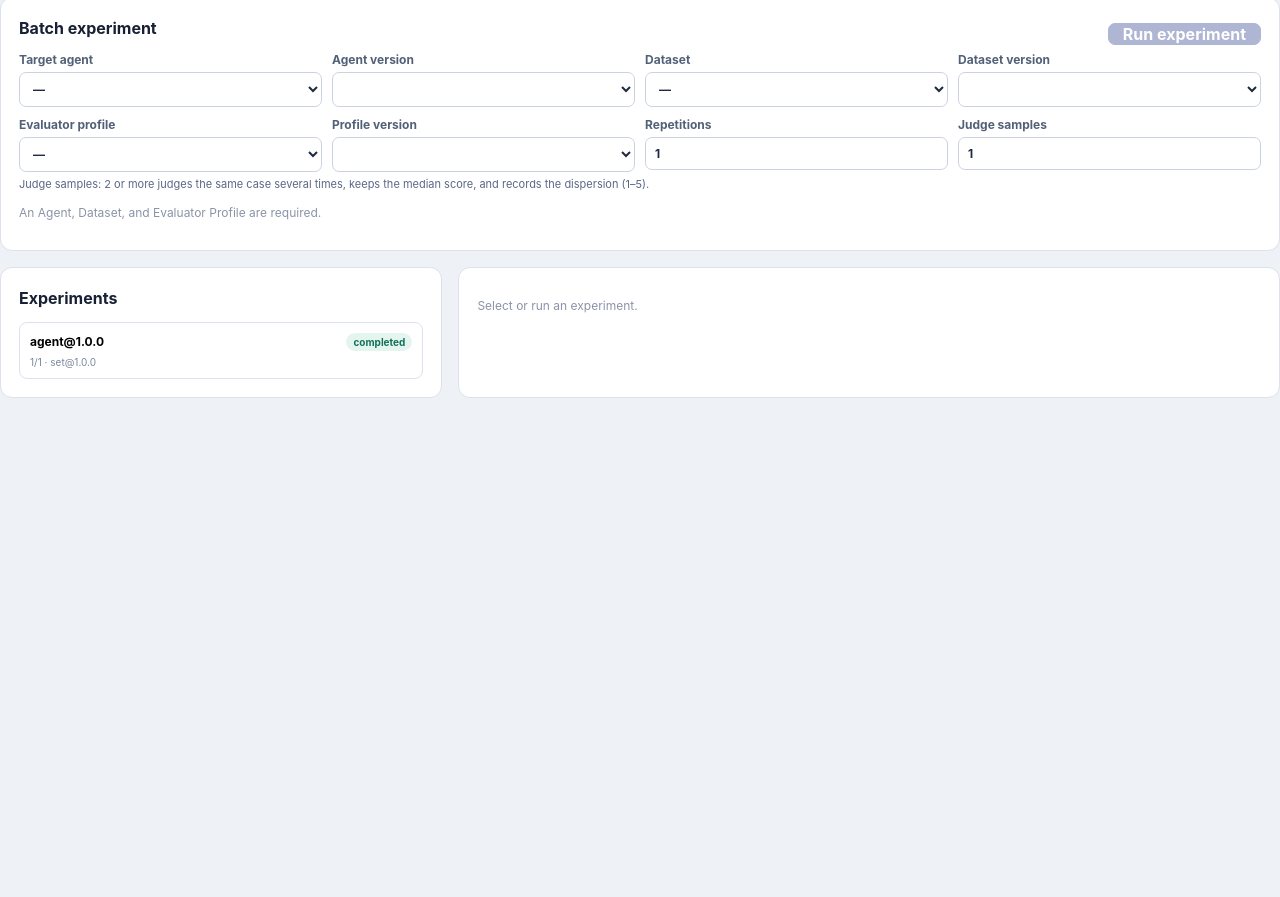
Scenario: ExperimentsTab のトレース表示 › error / mcp-server-skipped の行は言語化し、それ以外は種別名だけ（従来どおり）
Click the button "agent@1.0.0 completed 1/1 · set@1.0.0". click: (47, 342)
box: top-left (19, 322), bottom-right (423, 378)
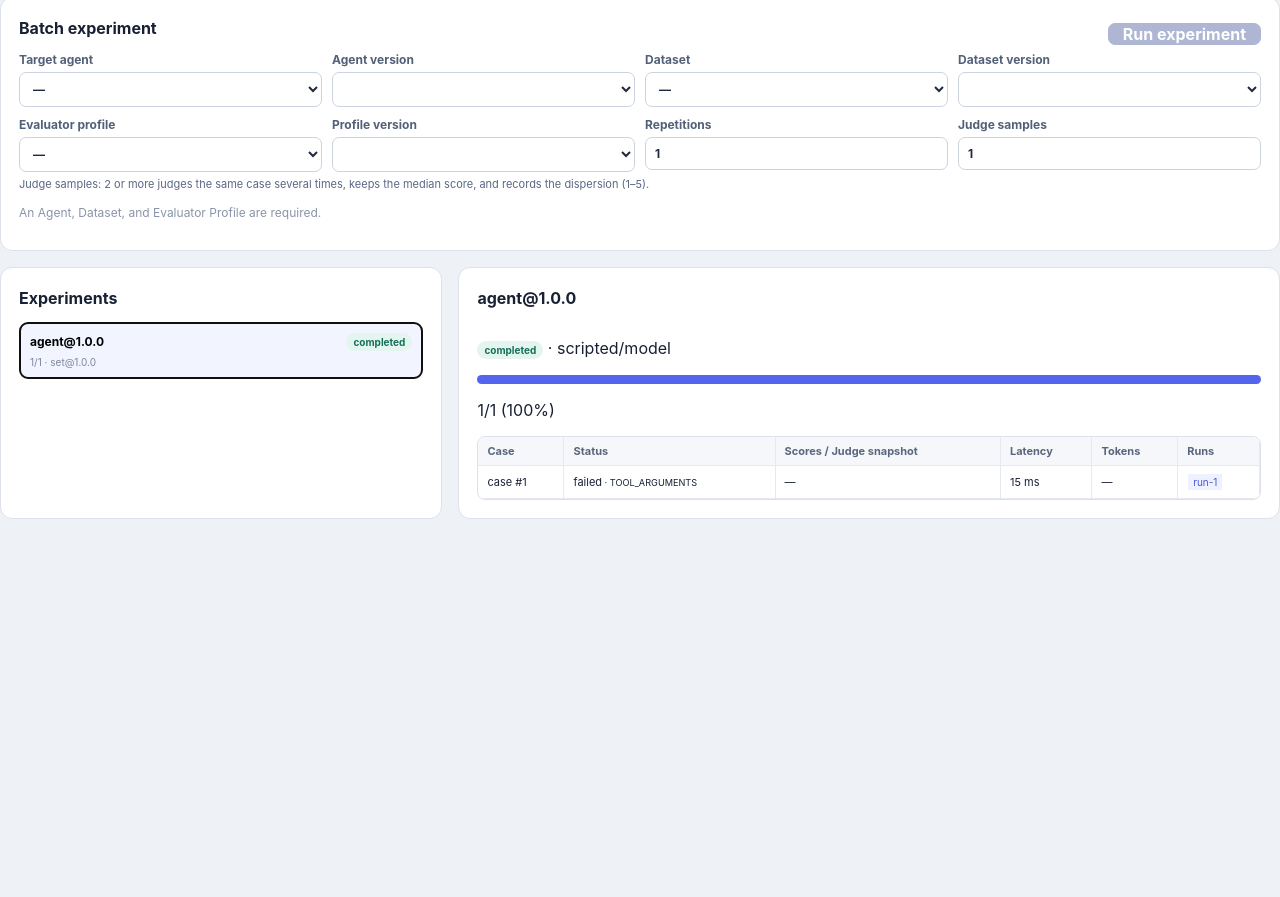
Click the button "run-1". click: (1205, 482)
box: top-left (1188, 474), bottom-right (1222, 490)
(page scrolled)
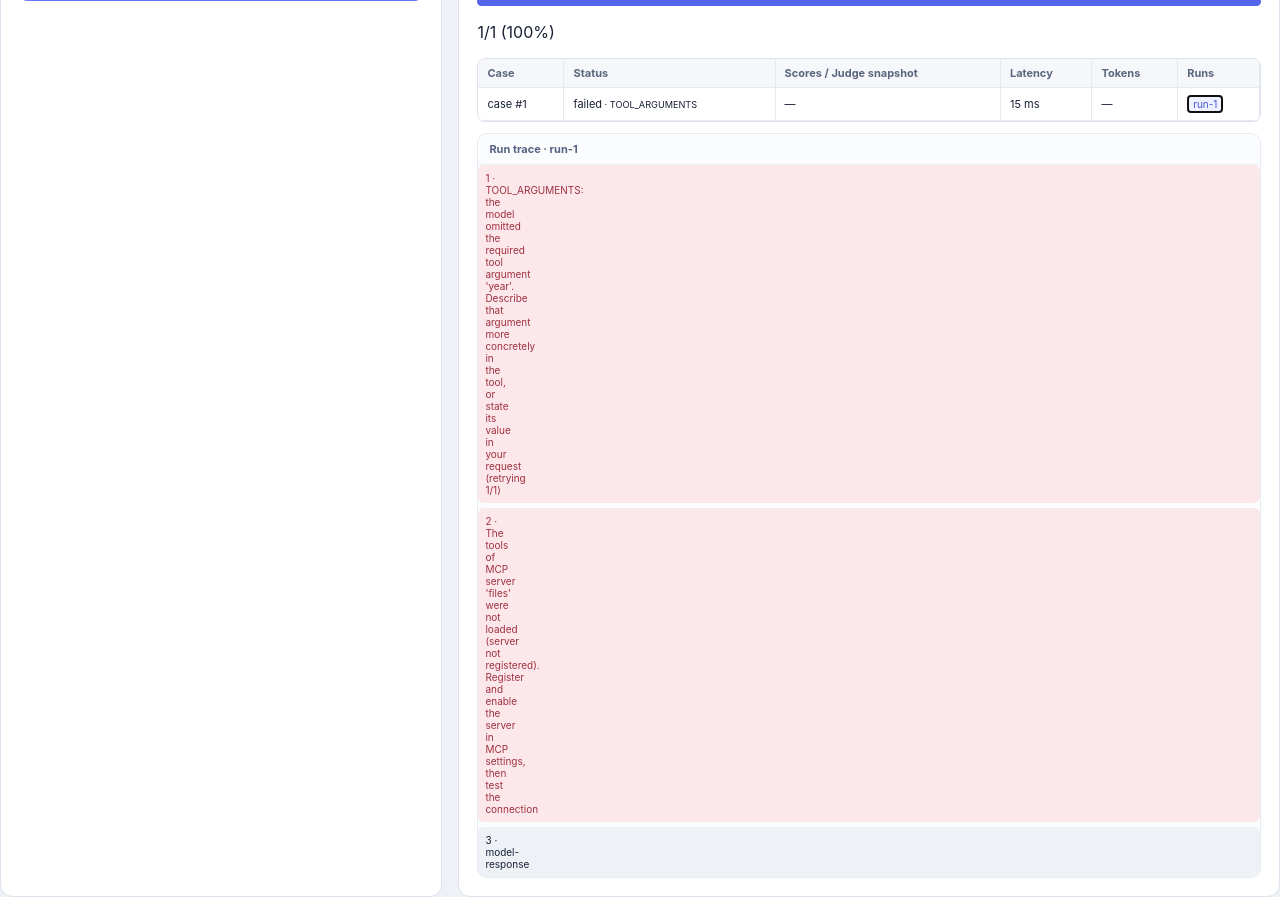
Check: the text "1 · TOOL_ARGUMENTS: the model omitted the required tool argument 'year'. Describe that argument more concretely in the t" is shown, box top-left (478, 164), bottom-right (1260, 502)
Check: the text "2 · The tools of MCP server 'files' were not loaded (server not registered). Register and enable the server in MCP setti" is shown, box top-left (478, 508), bottom-right (1260, 822)
Check: the text "3 · model-response" is shown, box top-left (478, 826), bottom-right (1260, 876)
